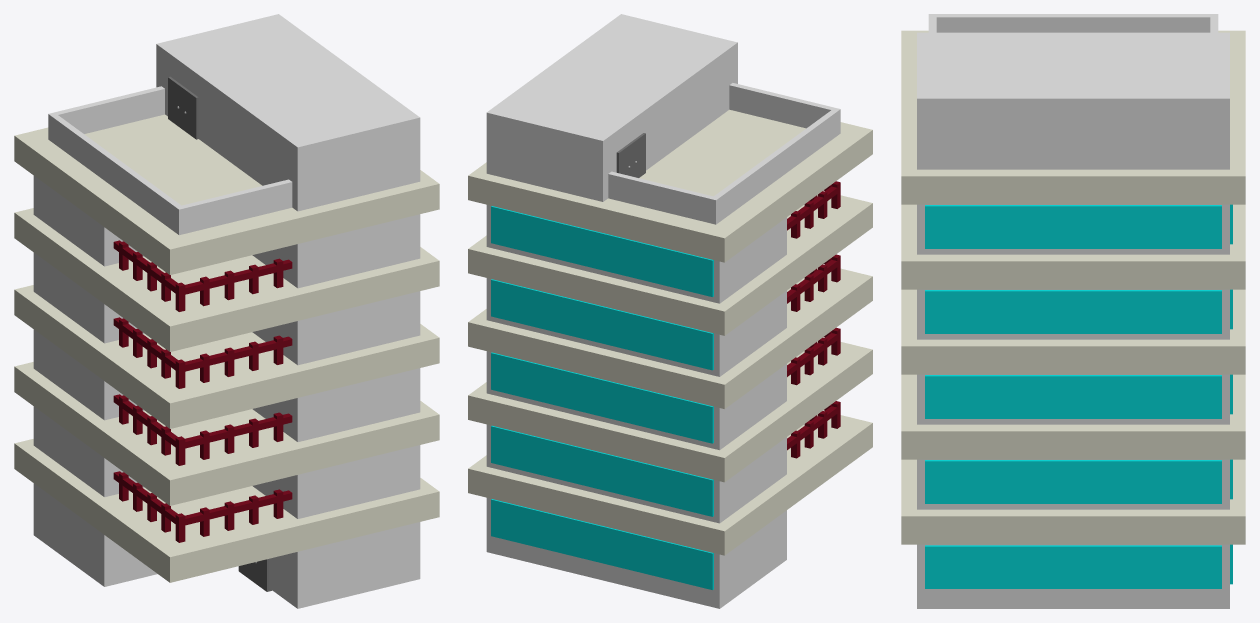
Rendered from mansion01.fbx.
The picture shows the model from 3 angles, left to right: view 1: azimuth 30°, elevation 25°; view 2: azimuth 150°, elevation 25°; view 3: azimuth 270°, elevation 25°; orthographic projection. The views are drawn at different scales.
Visible parts, largest first — view 1: pCube2, pCube7, pCube4, pCube5, pCube6, pCube3, pCube1, pCube23, pCube19 (×4), pCube21, pCube22, pCube20 (×4) (+2 smaller); view 2: pCube9 (×5), pCube2, pCube7, pCube1, pCube3, pCube6, pCube4, pCube5, pCube23, pCube22, pCube21, pCube25; view 3: pCube8 (×5), pCube2, pCube7, pCube3, pCube4, pCube5, pCube6, pCube23.
Boxes of the visible parts, x1,y1,x2,y2 form: pCube2: [156, 14, 420, 608]; pCube7: [14, 114, 439, 274]; pCube4: [14, 285, 439, 428]; pCube5: [14, 362, 439, 505]; pCube6: [14, 439, 439, 582]; pCube3: [14, 208, 439, 351]; pCube1: [33, 176, 157, 586]; pCube23: [48, 114, 184, 233]; pCube19 (×4): [182, 259, 292, 525]; pCube21: [175, 179, 292, 235]; pCube22: [48, 86, 164, 139]; pCube20 (×4): [113, 240, 177, 525]; pCube9 (×5): [491, 206, 713, 589]; pCube2: [486, 14, 737, 580]; pCube7: [468, 109, 872, 262]; pCube1: [603, 217, 786, 608]; pCube3: [468, 191, 872, 335]; pCube6: [468, 410, 872, 555]; pCube4: [468, 264, 872, 409]; pCube5: [468, 337, 872, 482]; pCube23: [710, 108, 840, 223]; pCube22: [608, 171, 719, 224]; pCube21: [729, 83, 840, 133]; pCube25: [630, 133, 645, 177]; pCube8 (×5): [925, 205, 1221, 588]; pCube2: [917, 32, 1229, 608]; pCube7: [901, 30, 1245, 204]; pCube3: [901, 204, 1245, 289]; pCube4: [901, 289, 1245, 374]; pCube5: [901, 374, 1245, 459]; pCube6: [901, 459, 1245, 544]; pCube23: [929, 14, 1217, 32].
Bounding box in the file's own units: 440 × 725 × 440.
